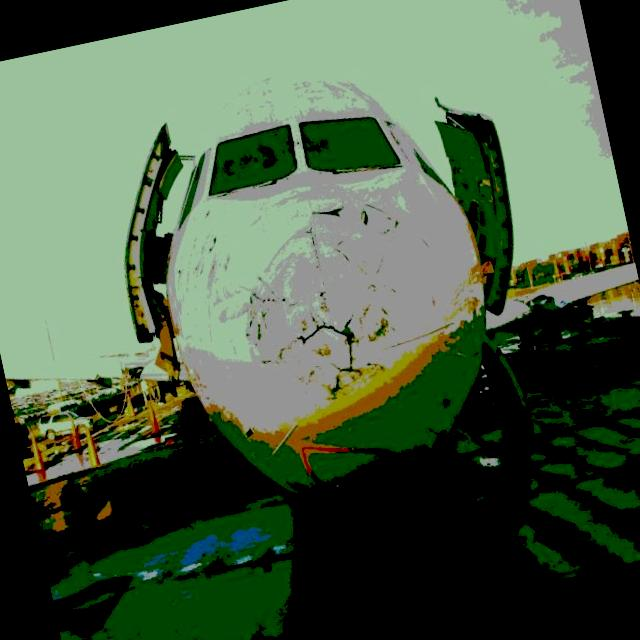crack: (224, 188, 459, 424)
